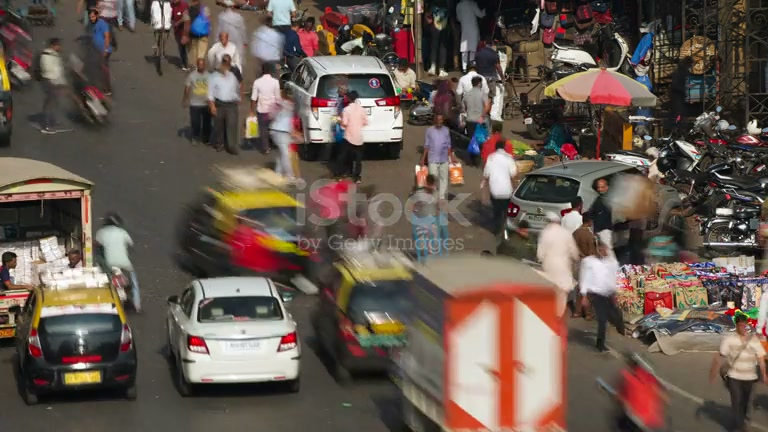bus: (0, 156, 95, 342)
car: (164, 276, 303, 396), (12, 281, 139, 406), (498, 158, 658, 257), (311, 245, 416, 384), (281, 55, 405, 162), (0, 43, 15, 146)
motorcycle: (595, 347, 673, 431), (73, 83, 111, 127)
pedestrian: (718, 310, 768, 430), (578, 233, 625, 352), (536, 210, 582, 320), (94, 212, 143, 313), (404, 172, 450, 261), (480, 139, 518, 238), (208, 55, 242, 156), (250, 62, 283, 157), (182, 57, 216, 144), (422, 112, 454, 203), (336, 89, 368, 179), (461, 77, 491, 166), (587, 177, 615, 252), (0, 251, 18, 289)
